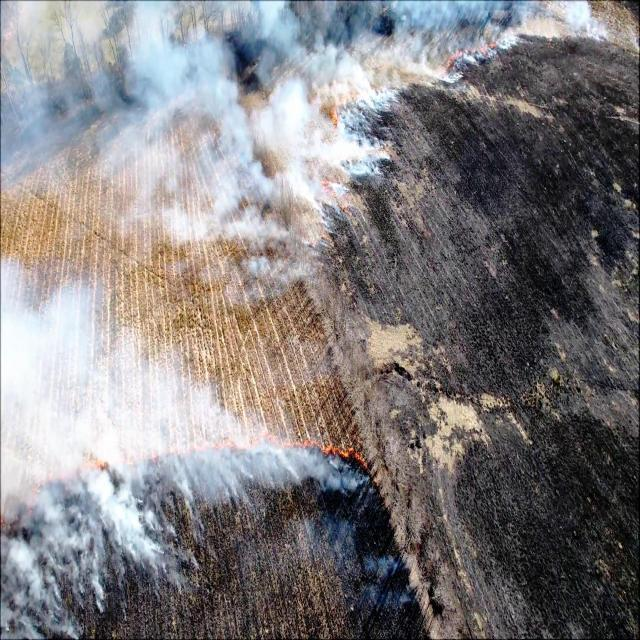Smoke: (2, 255, 366, 640), (0, 6, 377, 274), (388, 0, 516, 80)
